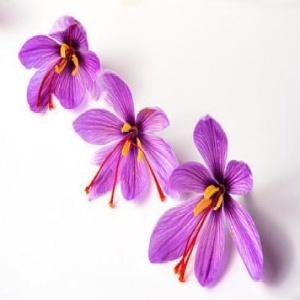Saffron: (78, 66, 194, 216), (153, 120, 270, 266), (17, 16, 101, 116)
